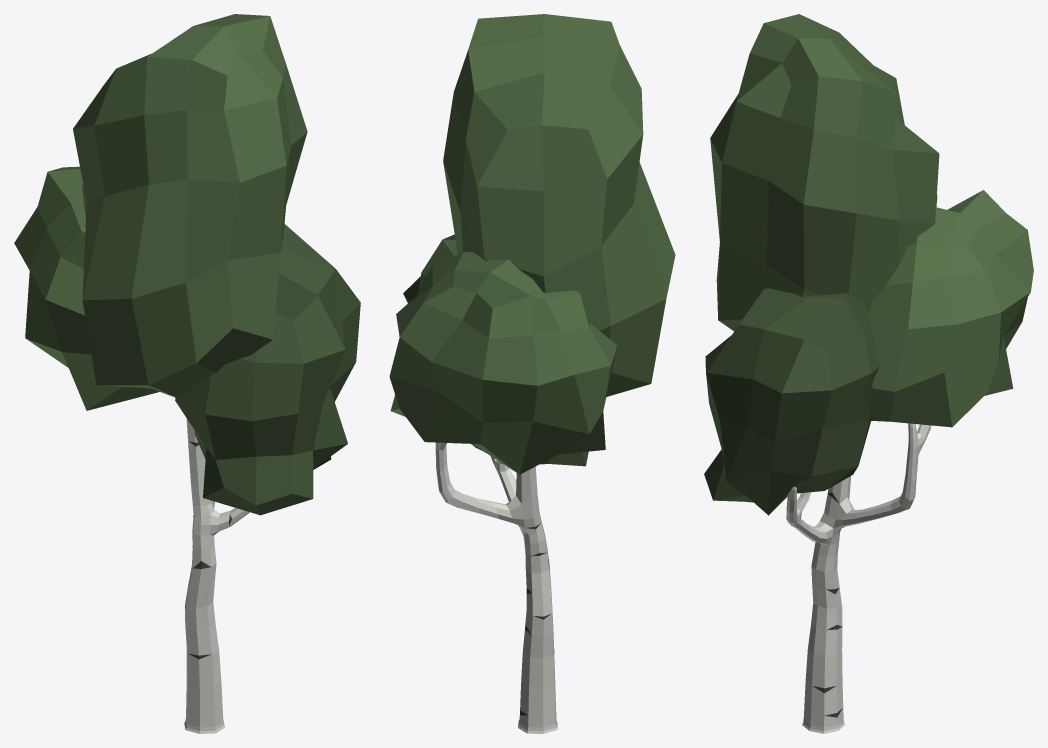
File: birch_tree_3.glb
The picture shows the model from 3 angles, left to right: view 1: azimuth 30°, elevation 25°; view 2: azimuth 150°, elevation 25°; view 3: azimuth 270°, elevation 25°; orthographic projection. The views are drawn at different scales.
Parts seen in each view (by area): view 1: birch_tree_3; view 2: birch_tree_3; view 3: birch_tree_3.
Part boxes in pixels (box(x1,y1,x2,y2)): birch_tree_3: box(14, 14, 360, 733); birch_tree_3: box(389, 14, 675, 733); birch_tree_3: box(704, 14, 1033, 733).
Size of the model in its own units: 1.57 by 4.09 by 1.77.
1 material, 1 textured.
